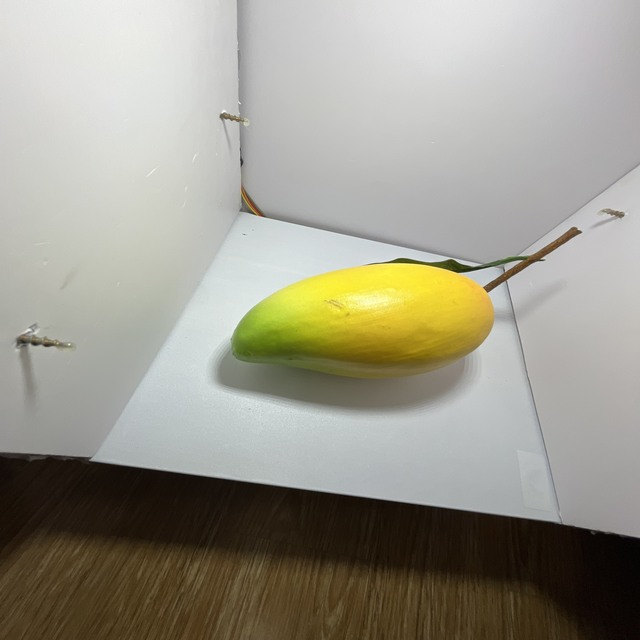Xoai: (210, 221, 516, 442)
